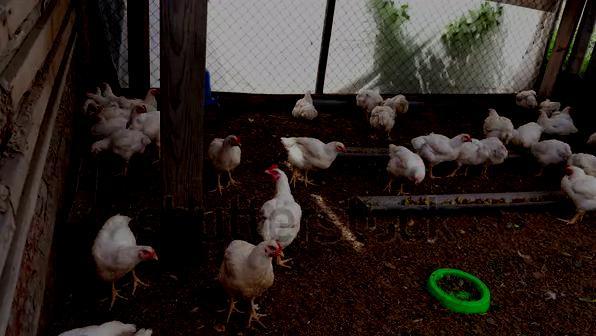Pollos: (93, 212, 159, 287), (216, 236, 281, 305), (257, 165, 298, 239), (86, 127, 152, 165), (278, 133, 347, 169), (562, 162, 596, 217), (386, 142, 428, 186), (420, 129, 472, 160), (209, 133, 246, 176), (526, 136, 571, 164), (537, 107, 580, 133), (482, 106, 511, 135), (129, 103, 157, 132), (293, 88, 319, 119), (370, 106, 396, 135), (89, 109, 120, 129), (514, 86, 538, 110)
